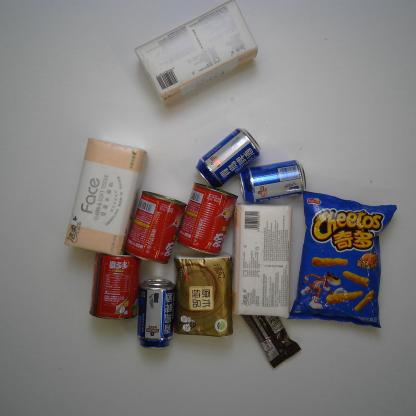Alcohol: (192, 124, 264, 190), (236, 157, 309, 206), (134, 276, 178, 352)
Canned Food: (121, 188, 189, 266), (175, 180, 241, 258), (86, 249, 142, 322)
Chocolate: (237, 310, 304, 370)
Puffed Food: (284, 186, 398, 331)
Tissue: (133, 0, 260, 109), (60, 133, 149, 261), (226, 200, 296, 321), (169, 250, 236, 341)
